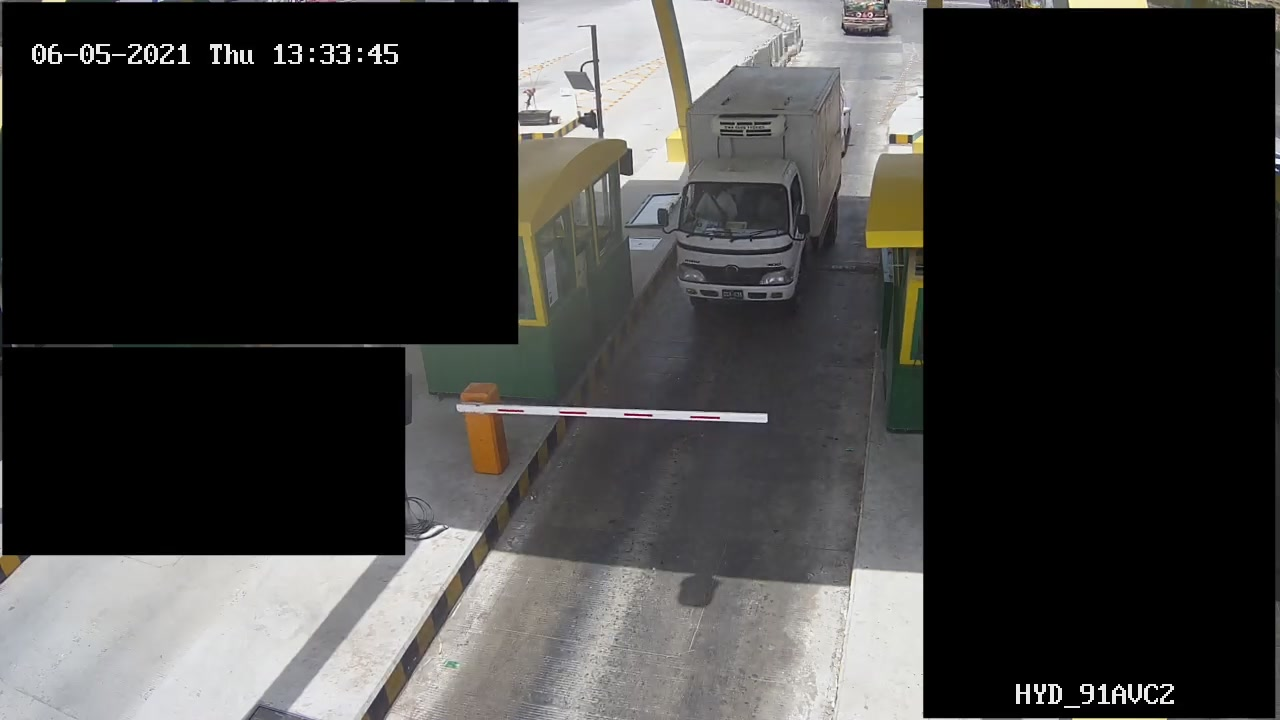F5: (663, 59, 848, 312)
